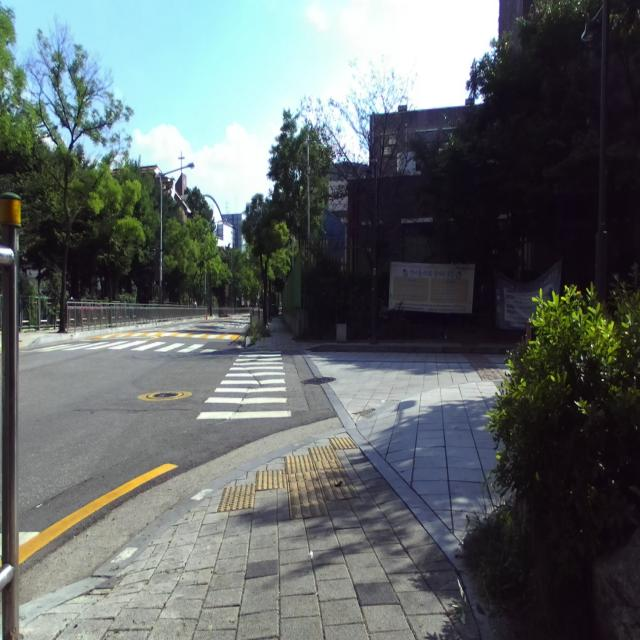횡단보도: (196, 351, 292, 419), (46, 336, 206, 356)
